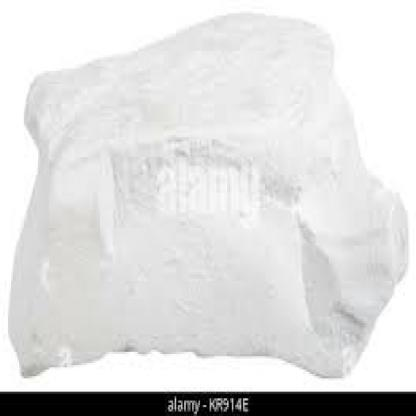Sedimentary_Chalk: (1, 7, 413, 378)
